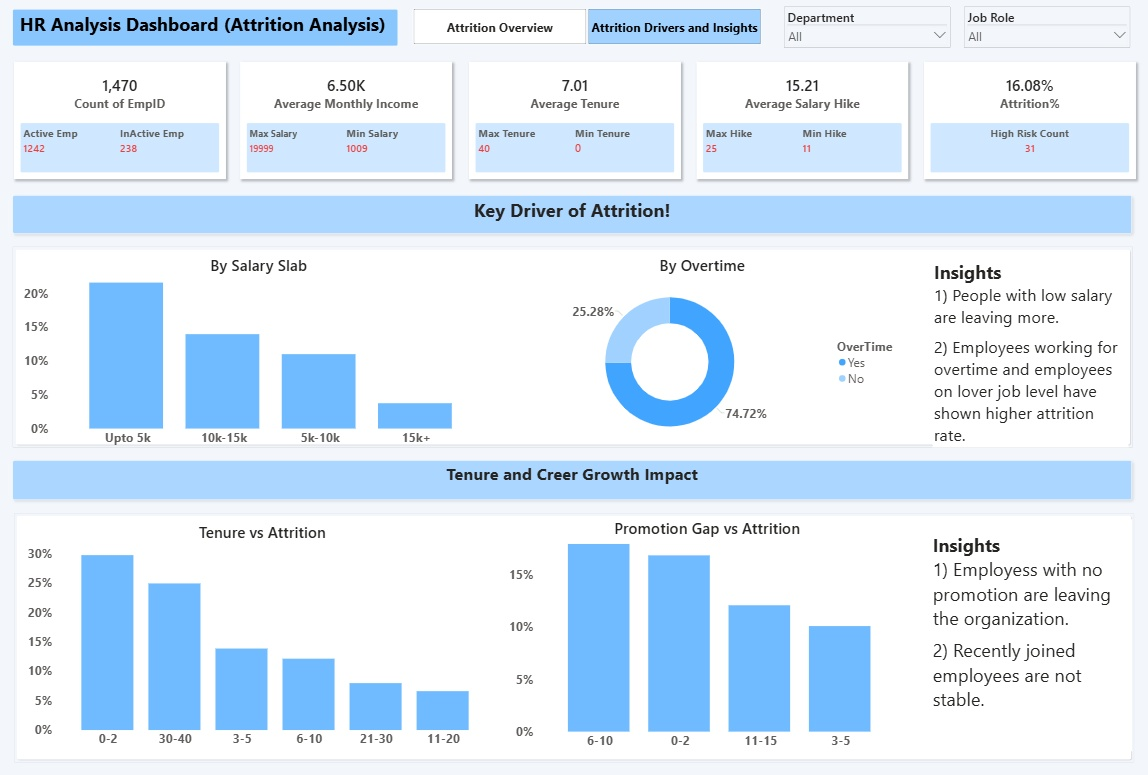

What the dashboard file says about the page in this screenshot:
{"tool":"powerbi","page":{"name":"Attrition Drivers and Insights","canvas":[5200,3500],"ordinal":1},"visuals":[{"type":"shape","box":[154.6,2300.5,4909.7,1092.9],"z":0},{"type":"cardVisual","fields":{"Data":["Count(HR_Analytics.EmpID)"]},"box":[154.6,321,928,514.1],"z":1000},{"type":"shape","box":[148.6,1135.4,4909.7,879.9],"z":2000},{"type":"textbox","box":[148.6,909.5,4904.1,166.4],"z":3000},{"type":"textbox","box":[148.6,2068.6,4904.1,172.4],"z":4000},{"type":"cardVisual","fields":{"Data":["All_Measures.Average Monthly Income"]},"box":[1145.1,321,928,514],"z":5000},{"type":"textbox","box":[148.6,95,1688.2,160.5],"z":6000},{"type":"donutChart","title":"By Overtime","fields":{"Y":["All_Measures.Attrition%"],"Category":["HR_Analytics.OverTime"]},"box":[2288.6,1165.1,1759.5,844.1],"z":7000},{"type":"pageNavigator","box":[1902.2,89.2,1530.1,162.5],"z":8000},{"type":"columnChart","title":"Tenure vs Attrition","fields":{"Category":["HR_Analytics.YearsAtCompany Group"],"Y":["All_Measures.Attrition%"]},"box":[208.1,2342.1,2067.8,999],"z":9000},{"type":"slicer","fields":{"Values":["HR_Analytics.Department"]},"box":[3530.9,83.2,728.6,180],"z":10000},{"type":"columnChart","title":"Promotion Gap  vs Attrition","fields":{"Y":["All_Measures.Attrition%"],"Category":["HR_Analytics.YearsSinceLastPromotion Group"]},"box":[2318.3,2324.2,1747.6,1022.4],"z":11000},{"type":"slicer","fields":{"Values":["HR_Analytics.JobRole"]},"box":[4315.6,83.2,728,180],"z":12000},{"type":"columnChart","title":"By Salary Slab","fields":{"Category":["HR_Analytics.SalarySlab"],"Y":["All_Measures.Attrition%"]},"box":[190.2,1165.1,2068.6,850],"z":13000},{"type":"cardVisual","fields":{"Data":["Avg(HR_Analytics.YearsAtCompany)"]},"box":[2147.4,321,928,514],"z":14000},{"type":"cardVisual","fields":{"Data":["Avg(HR_Analytics.PercentSalaryHike)"]},"box":[3143.8,321,928,514.1],"z":15000},{"type":"textbox","box":[4180,1165.1,857.5,846.3],"z":16000},{"type":"textbox","box":[4172.6,2327.1,879.8,1016.5],"z":17000},{"type":"cardVisual","fields":{"Data":["All_Measures.Attrition%"]},"box":[4140.2,321,928,514.1],"z":18000}]}

Visuals, with their boxes in screenshot pixels (x1, y1, x2, y2), scaled from the page's 5200x3500 canvas onto the 1148x775 screenshot:
shape: box(34, 509, 1118, 751)
cardVisual - Count(HR_Analytics.EmpID): box(34, 71, 239, 185)
shape: box(33, 251, 1117, 446)
textbox: box(33, 201, 1115, 238)
textbox: box(33, 458, 1115, 496)
cardVisual - All_Measures.Average Monthly Income: box(253, 71, 458, 185)
textbox: box(33, 21, 406, 57)
"By Overtime" donutChart: box(505, 258, 894, 445)
pageNavigator: box(420, 20, 758, 56)
"Tenure vs Attrition" columnChart: box(46, 519, 502, 740)
slicer - HR_Analytics.Department: box(780, 18, 940, 58)
"Promotion Gap  vs Attrition" columnChart: box(512, 515, 898, 741)
slicer - HR_Analytics.JobRole: box(953, 18, 1113, 58)
"By Salary Slab" columnChart: box(42, 258, 499, 446)
cardVisual - Avg(HR_Analytics.YearsAtCompany): box(474, 71, 679, 185)
cardVisual - Avg(HR_Analytics.PercentSalaryHike): box(694, 71, 899, 185)
textbox: box(923, 258, 1112, 445)
textbox: box(921, 515, 1115, 740)
cardVisual - All_Measures.Attrition%: box(914, 71, 1119, 185)
